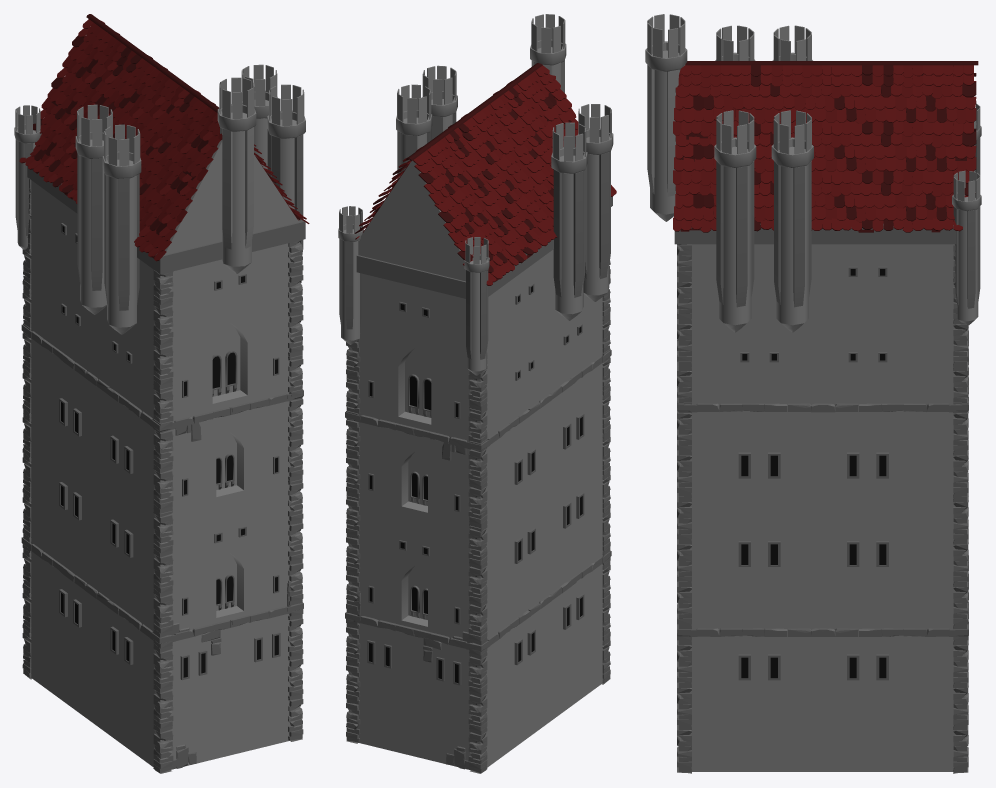
The model's file is SM_keep_castle_01.fbx.
The picture shows the model from 3 angles, left to right: view 1: azimuth 30°, elevation 25°; view 2: azimuth 150°, elevation 25°; view 3: azimuth 270°, elevation 25°; orthographic projection. The views are drawn at different scales.
Visible parts, largest first — view 1: Object094; view 2: Object094; view 3: Object094.
Part boxes in pixels (x1,y1,x2,y2): Object094: (14, 14, 309, 773); Object094: (338, 14, 616, 773); Object094: (645, 14, 981, 773).
Bounding box in the file's own units: 463 × 641 × 1503.
